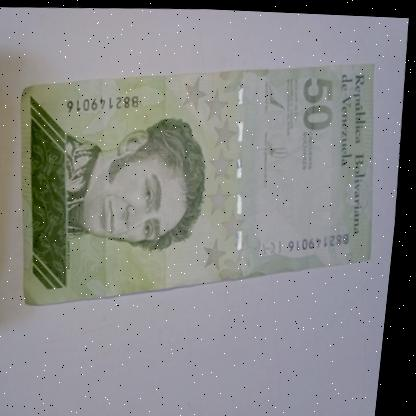fifty-front-vef: (4, 46, 395, 317)
